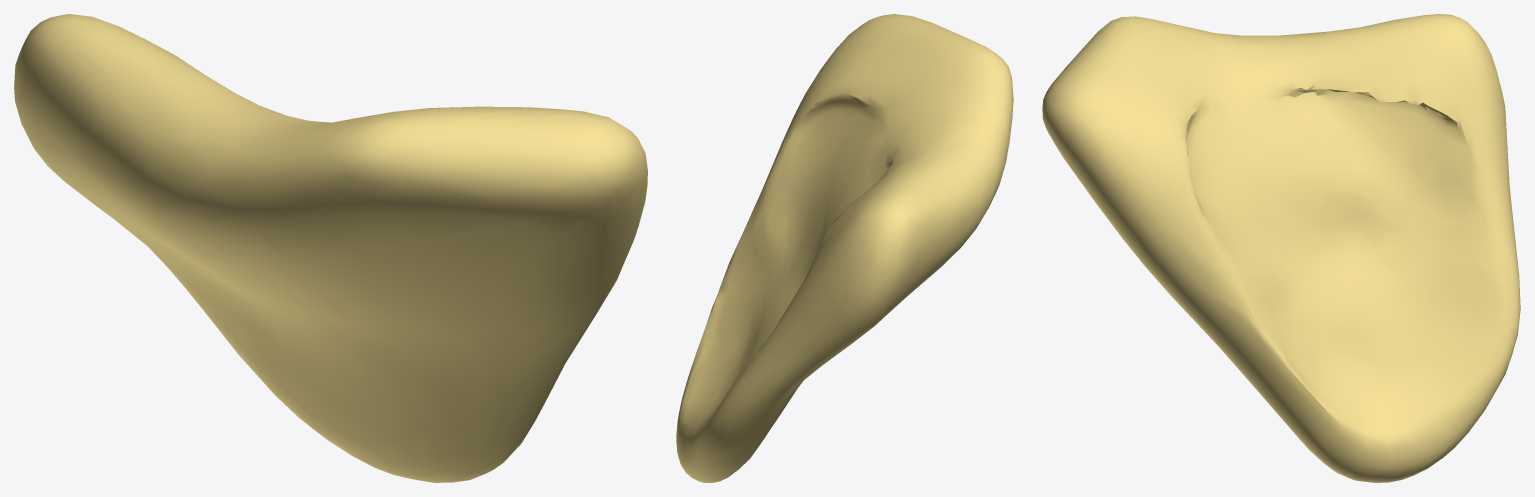
Rendered from fma73543_mm2863m.glb.
The picture shows the model from 3 angles, left to right: view 1: azimuth 30°, elevation 25°; view 2: azimuth 150°, elevation 25°; view 3: azimuth 270°, elevation 25°; orthographic projection. The views are drawn at different scales.
Visible parts, largest first — view 1: FMA73543_MM2863M; view 2: FMA73543_MM2863M; view 3: FMA73543_MM2863M.
Boxes of the visible parts, x1,y1,x2,y2 form: FMA73543_MM2863M: (14, 14, 647, 482); FMA73543_MM2863M: (676, 14, 1013, 482); FMA73543_MM2863M: (1042, 14, 1520, 482).
Bounding box in the file's own units: 0.0104 × 0.0131 × 0.0148.
